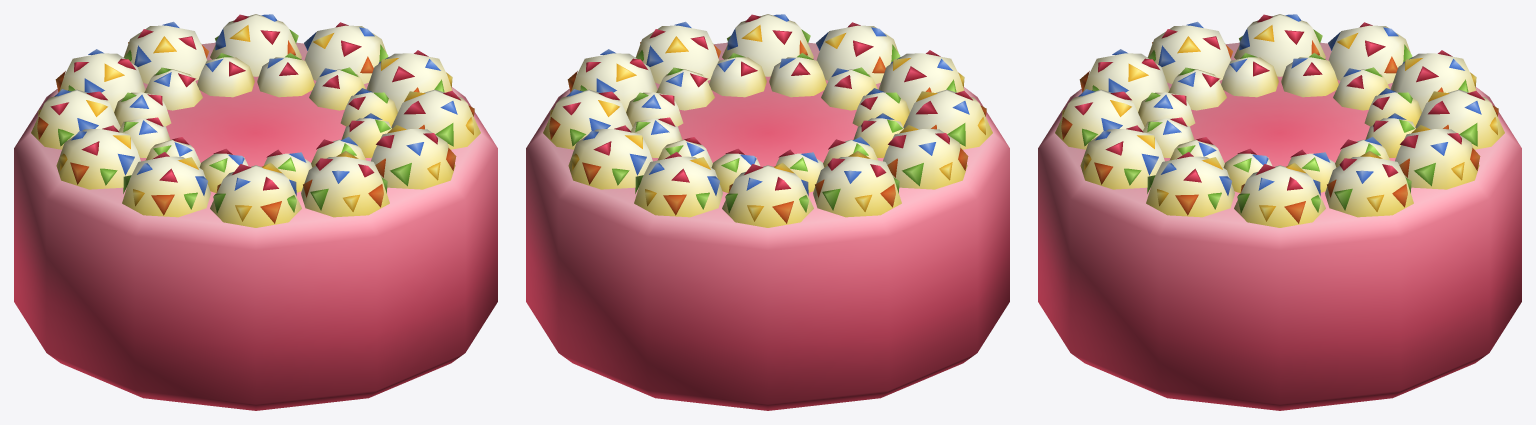
The model's file is m_PartyCake01.fbx.
3 views of the same model, side by side, from view 1: azimuth 30°, elevation 25°; view 2: azimuth 150°, elevation 25°; view 3: azimuth 270°, elevation 25° (orthographic).
Visible parts, largest first — view 1: m_PartyCake01; view 2: m_PartyCake01; view 3: m_PartyCake01.
Part boxes in pixels (left/top/right/bottom): m_PartyCake01: left=14, top=14, right=497, bottom=410; m_PartyCake01: left=526, top=14, right=1009, bottom=410; m_PartyCake01: left=1038, top=14, right=1521, bottom=410.
Size of the model in its own units: 23.52 by 12.04 by 23.52.
